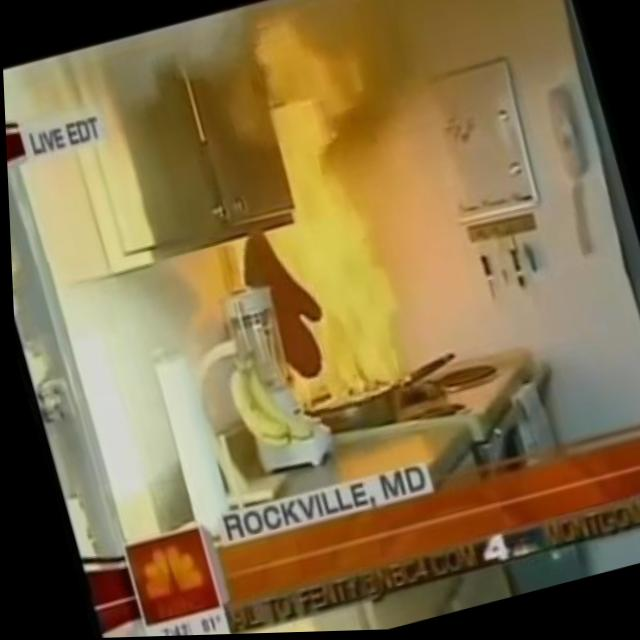fire: (171, 0, 452, 427)
